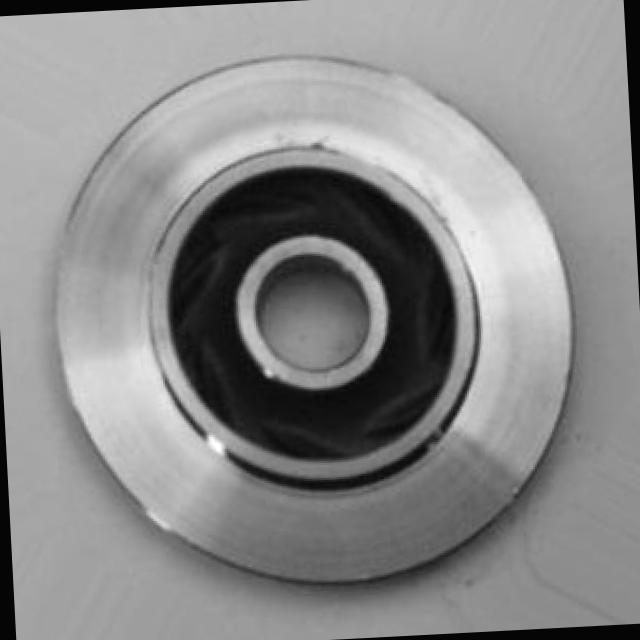Defect: (294, 128, 343, 162)
